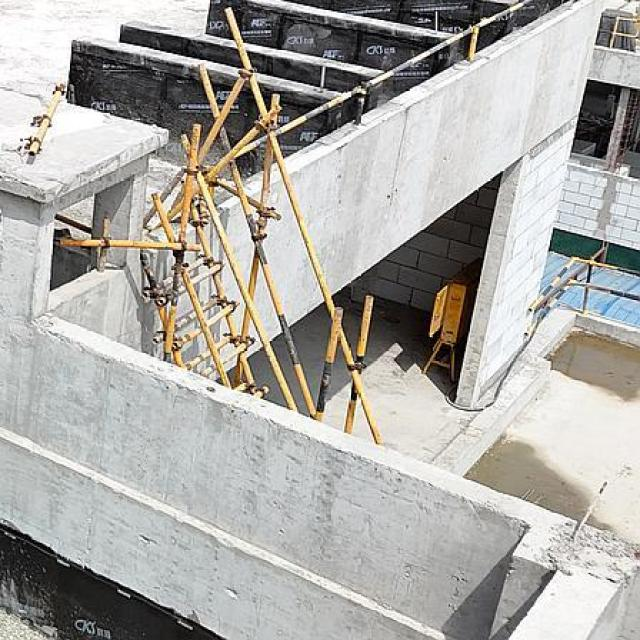edge_guardrail: (231, 0, 536, 160), (523, 254, 640, 337), (598, 13, 640, 49)
